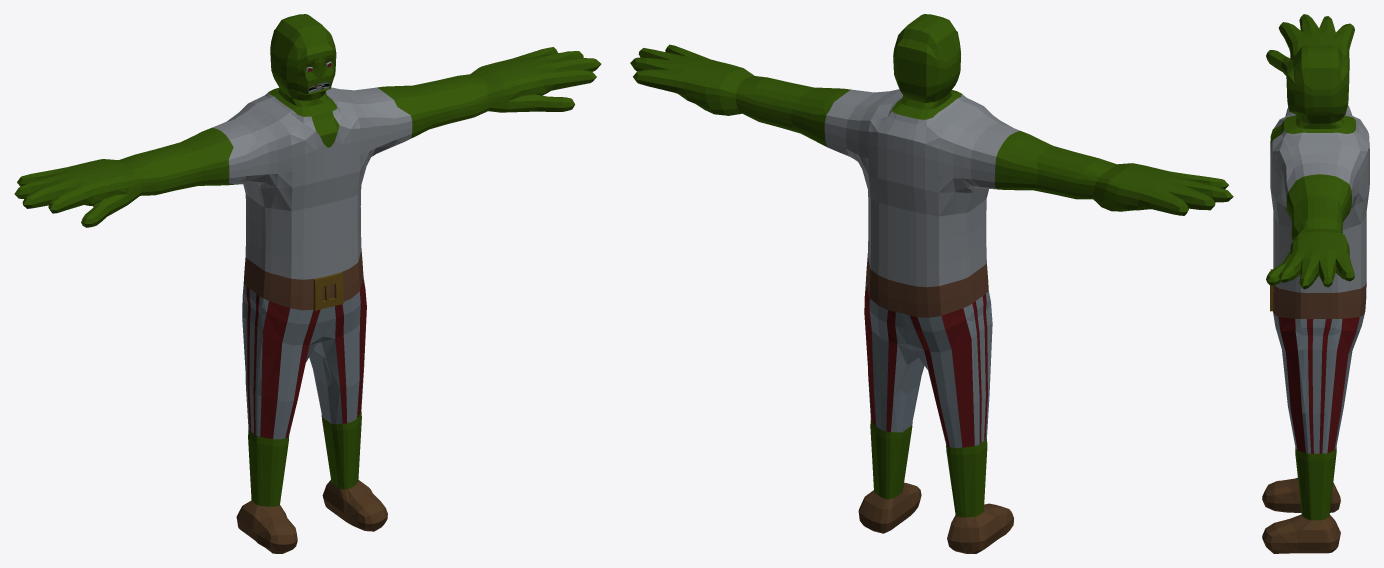
The model's file is ZombieV1.fbx.
The picture shows the model from 3 angles, left to right: view 1: azimuth 30°, elevation 25°; view 2: azimuth 150°, elevation 25°; view 3: azimuth 270°, elevation 25°; orthographic projection. The views are drawn at different scales.
Parts seen in each view (by area): view 1: Zombie.001; view 2: Zombie.001; view 3: Zombie.001.
Part boxes in pixels (x1=…): Zombie.001: x1=14, y1=14, x2=601, y2=553; Zombie.001: x1=630, y1=14, x2=1233, y2=553; Zombie.001: x1=1262, y1=14, x2=1369, y2=553.
Size of the model in its own units: 1280 by 1063 by 216.
